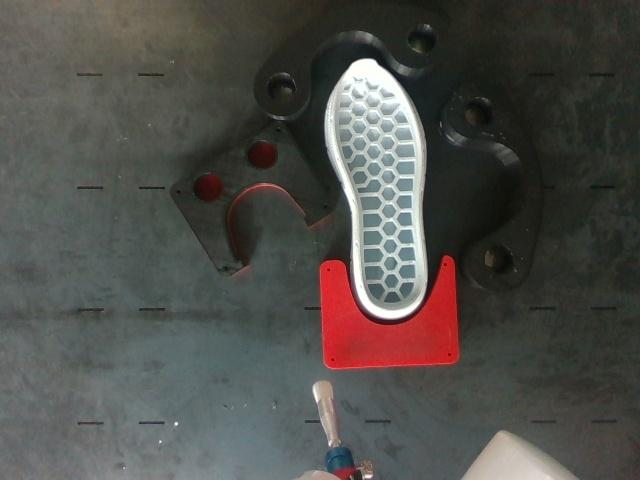shoes: (334, 59, 425, 311)
